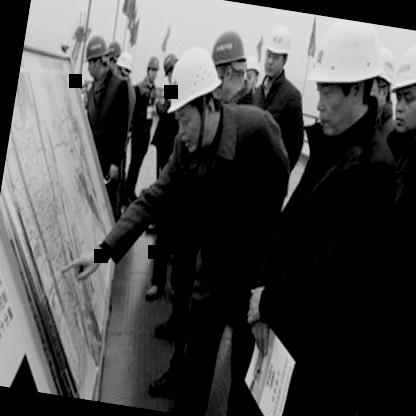helmet: (300, 15, 386, 143), (159, 47, 228, 152), (381, 32, 416, 147), (204, 21, 256, 98), (257, 16, 296, 86), (368, 48, 401, 110), (83, 28, 115, 80), (241, 48, 267, 93), (113, 46, 136, 86), (158, 50, 182, 88), (102, 33, 126, 69), (142, 52, 162, 86)
